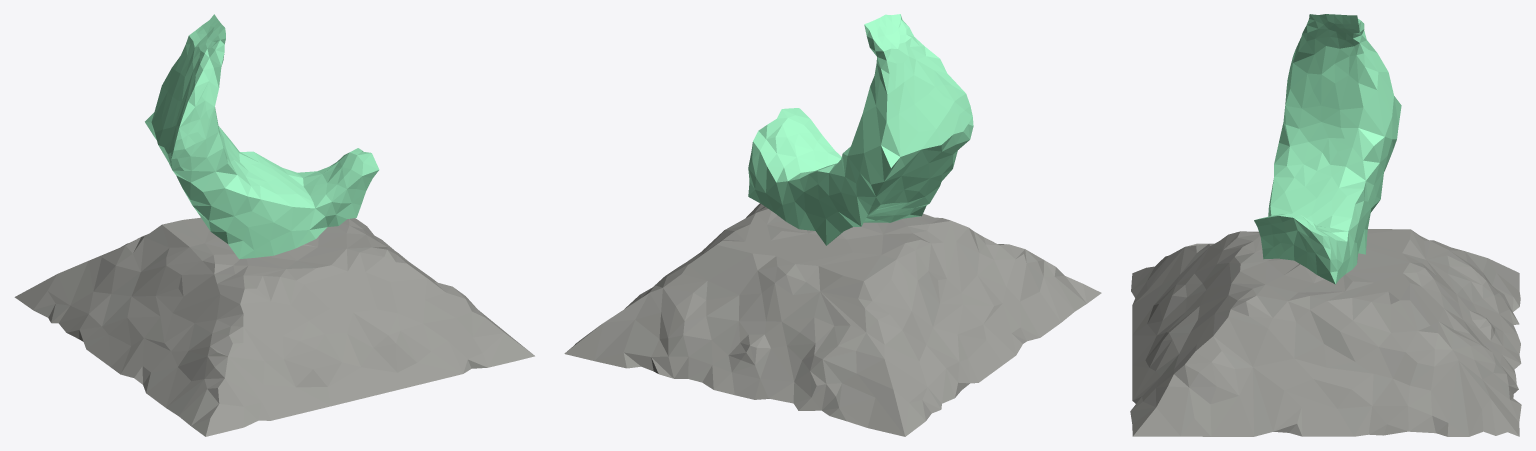
The model's file is moonStellar.fbx.
3 renders of one model, left to right at view 1: azimuth 30°, elevation 25°; view 2: azimuth 150°, elevation 25°; view 3: azimuth 270°, elevation 25°, orthographic. The views are drawn at different scales.
Visible parts, largest first — view 1: stèle, LUNE; view 2: stèle, LUNE; view 3: stèle, LUNE.
Boxes of the visible parts, x1,y1,x2,y2 form: stèle: [14, 217, 534, 436]; LUNE: [145, 14, 379, 259]; stèle: [564, 203, 1101, 436]; LUNE: [748, 14, 973, 245]; stèle: [1130, 229, 1521, 436]; LUNE: [1254, 14, 1401, 284].
Size of the model in its own units: 52.98 by 47.58 by 53.21.
